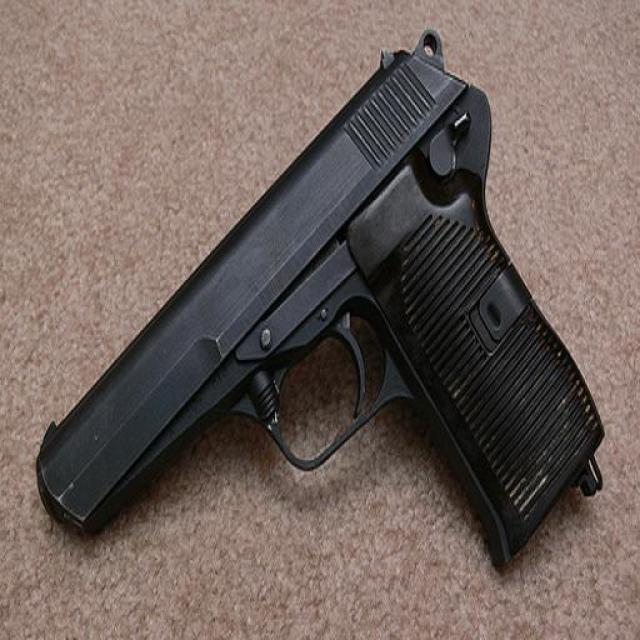pistol: (31, 36, 605, 557)
